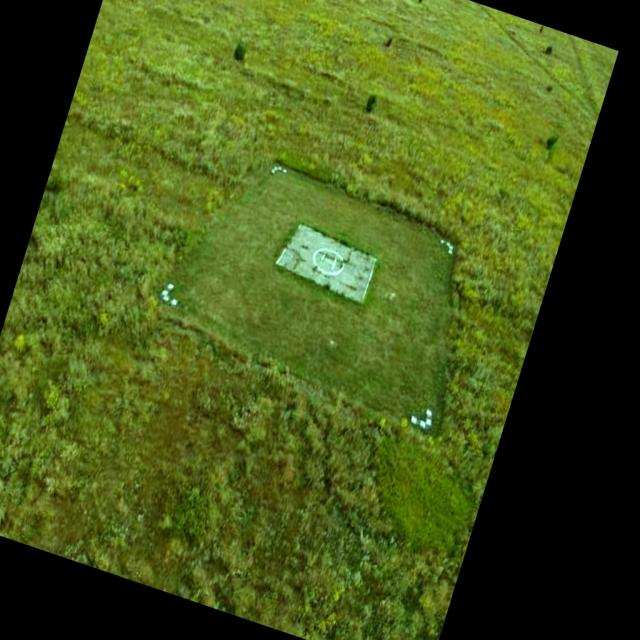helipad: (310, 245, 346, 276)
